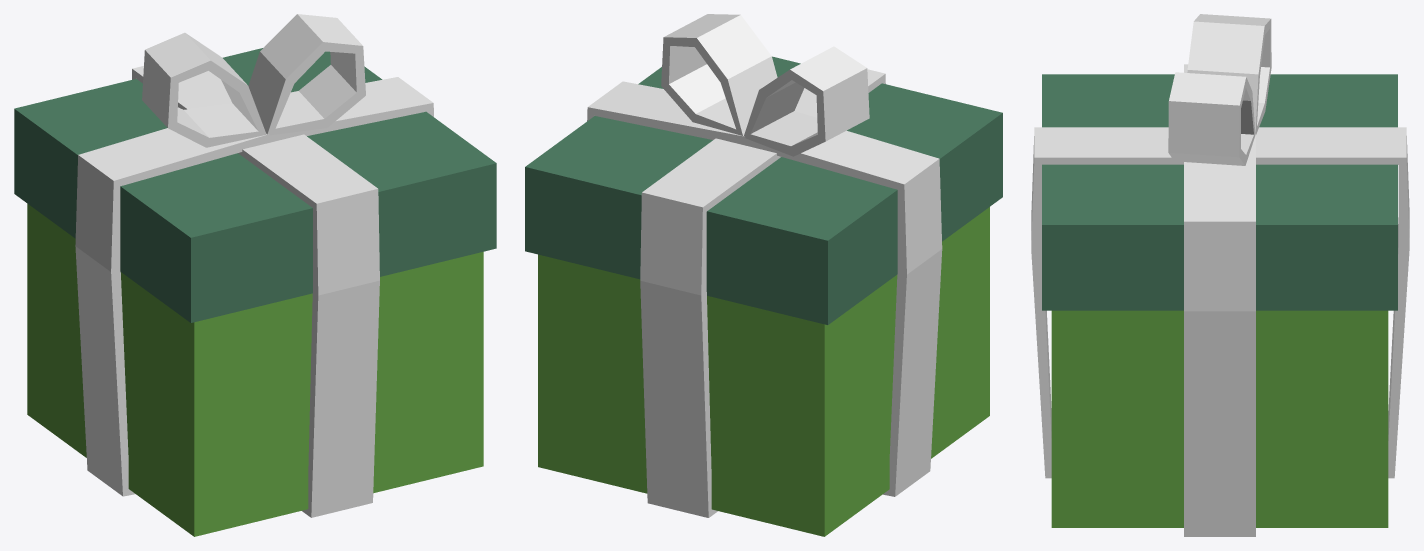
Rendered from Giftbox_03.glb.
3 views of the same model, side by side, from view 1: azimuth 30°, elevation 25°; view 2: azimuth 150°, elevation 25°; view 3: azimuth 270°, elevation 25° (orthographic).
Visible parts, largest first — view 1: Giftbox_3_mesh; view 2: Giftbox_3_mesh; view 3: Giftbox_3_mesh.
Boxes of the visible parts, x1,y1,x2,y2 form: Giftbox_3_mesh: [14, 14, 496, 536]; Giftbox_3_mesh: [525, 14, 1002, 536]; Giftbox_3_mesh: [1031, 14, 1409, 536].
Size of the model in its own units: 0.3373 by 0.414 by 0.3373.
1 material, 1 textured.
